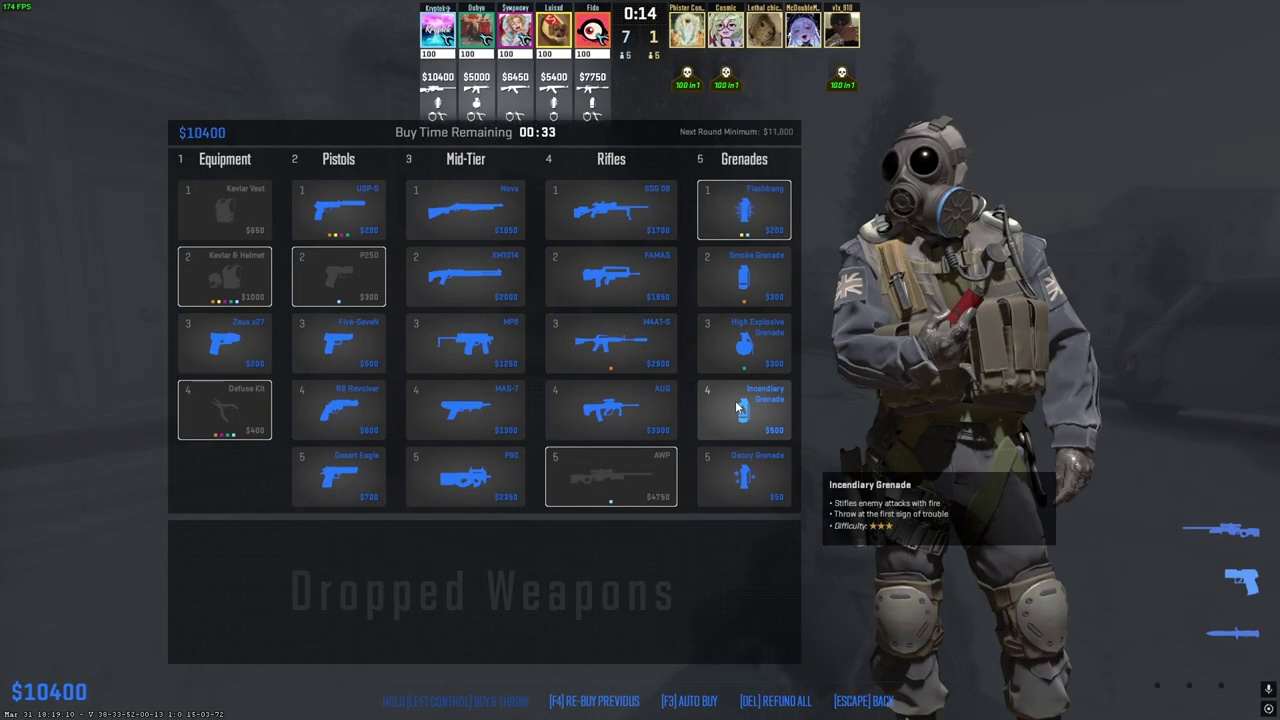CT: (857, 124, 1076, 720)
